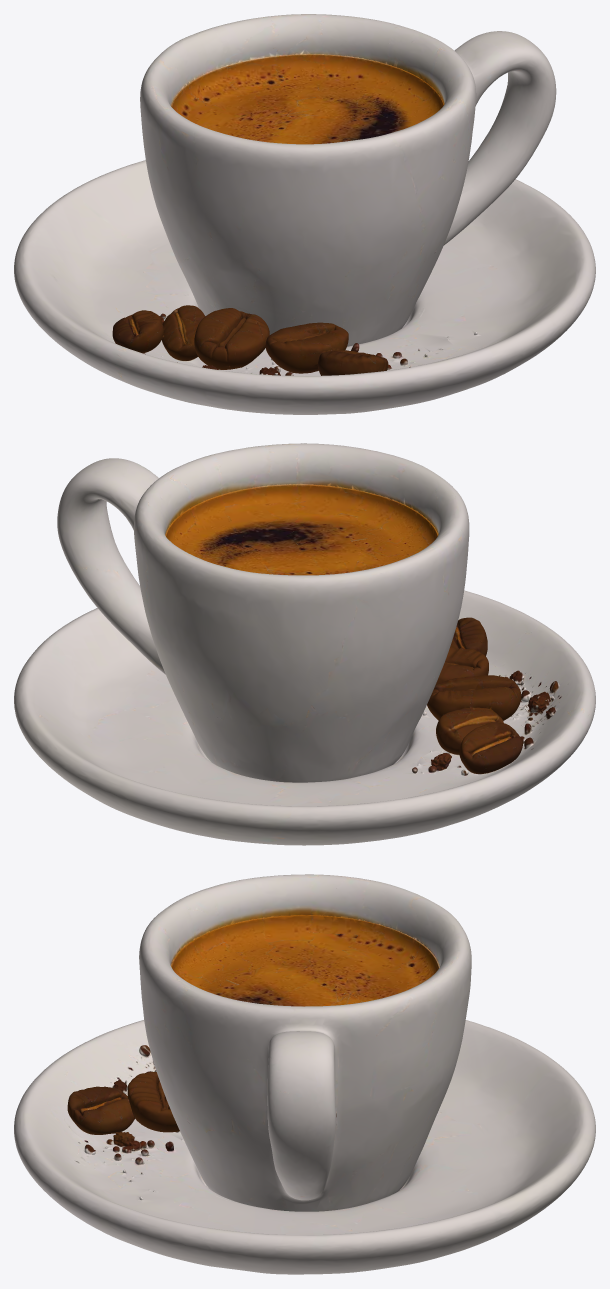
The picture shows the model from 3 angles, top to bottom: view 1: azimuth 30°, elevation 25°; view 2: azimuth 150°, elevation 25°; view 3: azimuth 270°, elevation 25°; orthographic projection.
Size of the model in its own units: 1.9 by 0.9031 by 1.9.
1 material, 1 textured.
